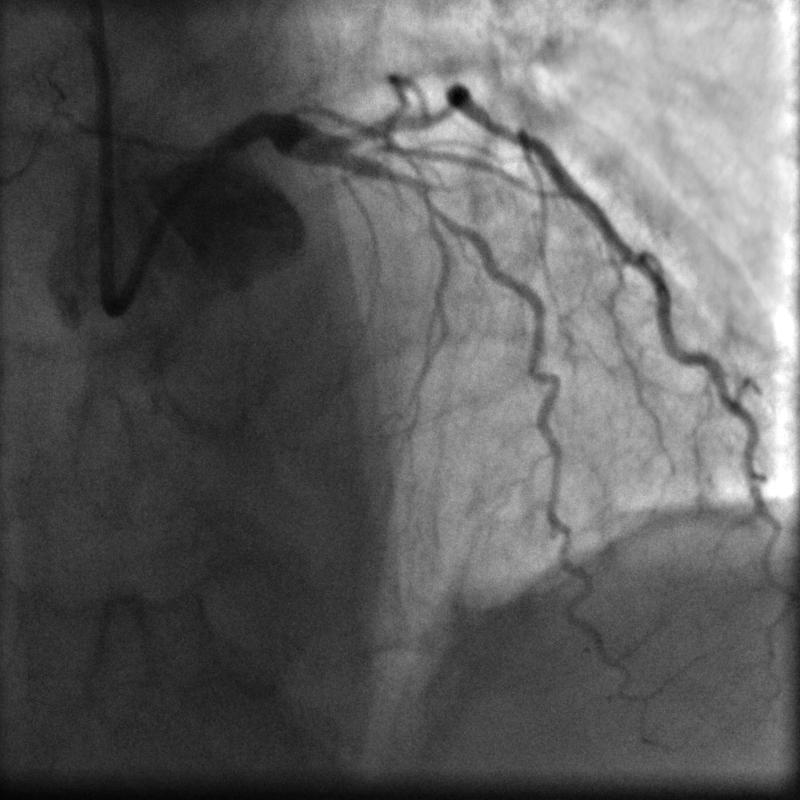Stenosis: (372, 153, 436, 209)
